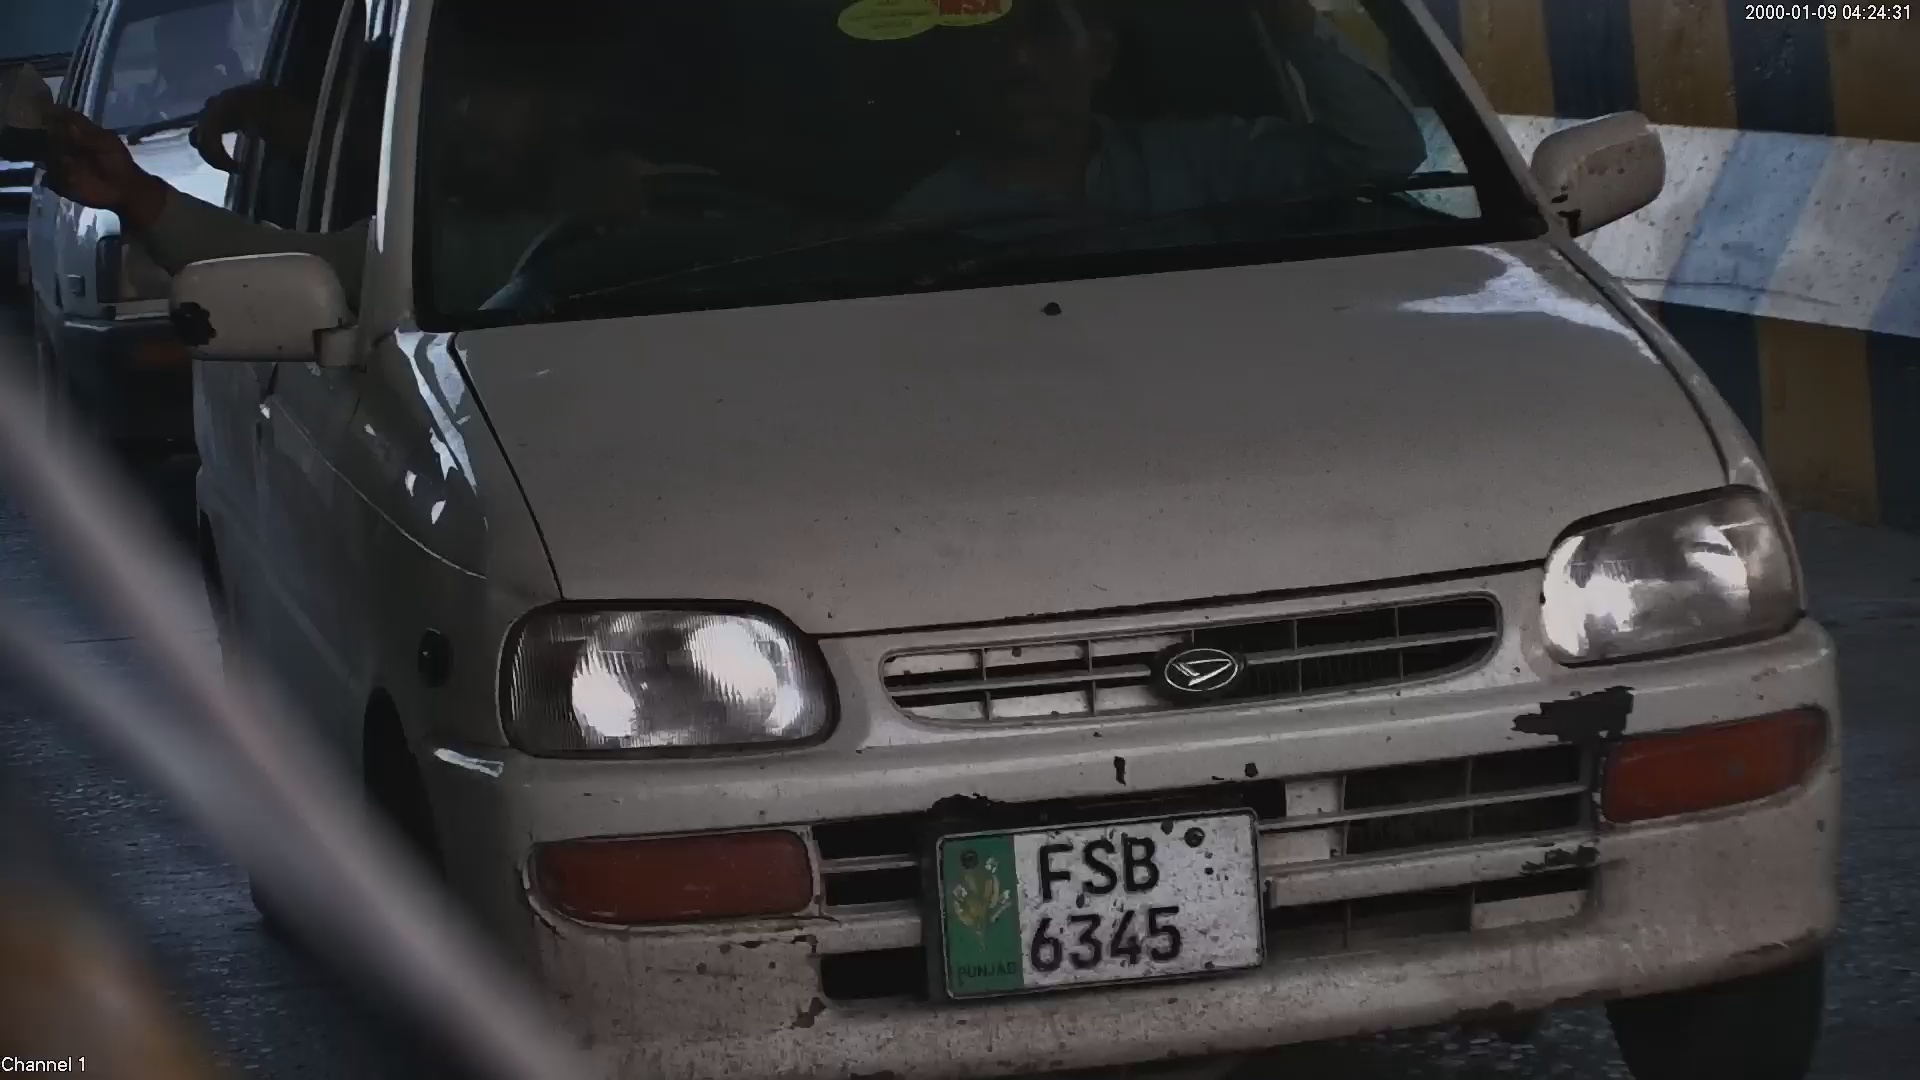Number_Plate: (913, 803, 1282, 988)
Undefined: (526, 607, 808, 751), (1541, 507, 1787, 646), (530, 829, 819, 927), (1593, 712, 1826, 805), (1143, 629, 1247, 703)
